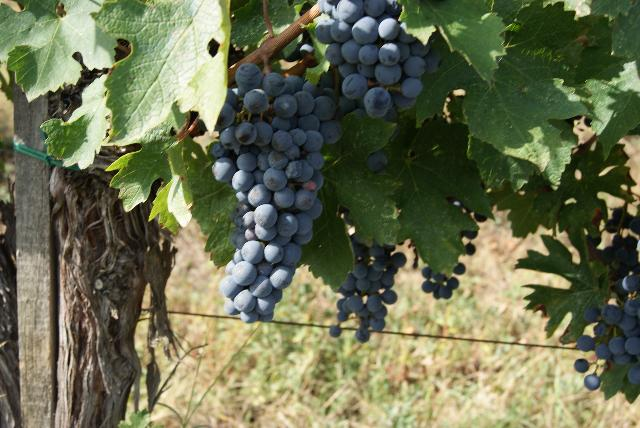grapes: (210, 64, 341, 324), (315, 0, 440, 121), (336, 234, 406, 342)
